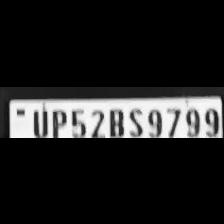2: (88, 105, 104, 136)
5: (68, 105, 88, 136)
7: (164, 105, 181, 137)
9: (200, 104, 220, 136), (145, 105, 163, 137), (183, 105, 201, 137)
B: (102, 104, 124, 136)
P: (50, 105, 66, 136)
S: (126, 105, 144, 137)
U: (29, 107, 49, 137)
